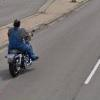Motorcycle: (4, 29, 42, 86)
